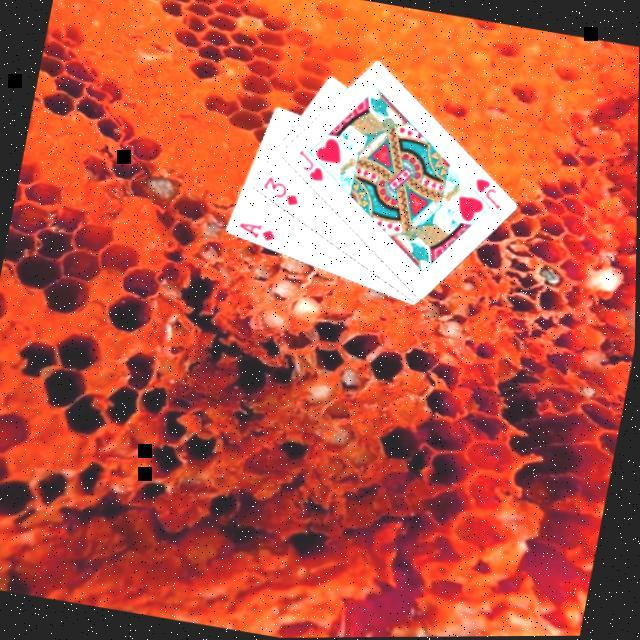3D: (258, 171, 306, 210)
AD: (234, 217, 282, 244)
JH: (468, 172, 508, 212), (292, 146, 331, 184)
